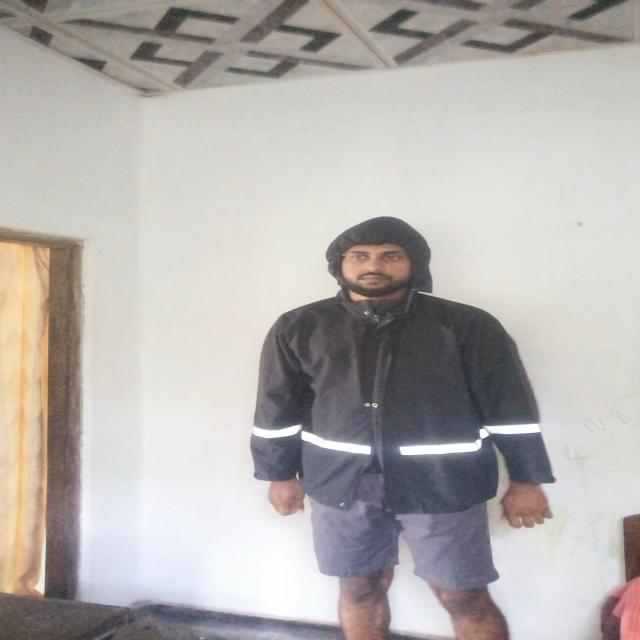Jacket_Wearer: (243, 216, 575, 507)
